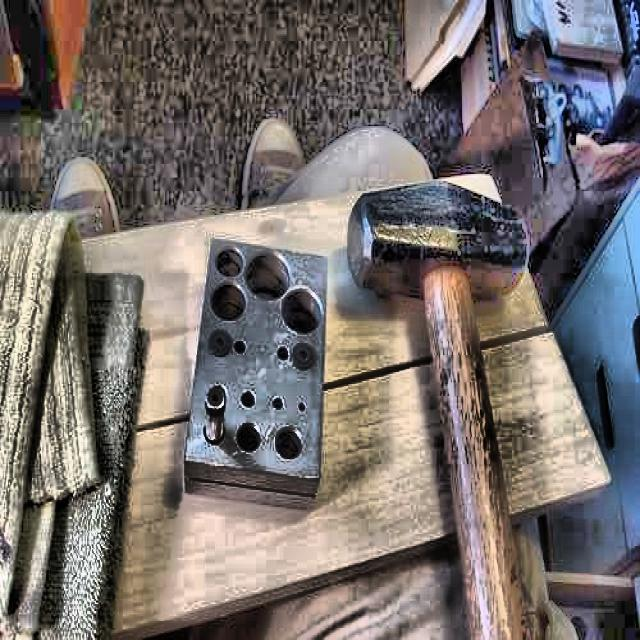hammer: (346, 179, 530, 640)
